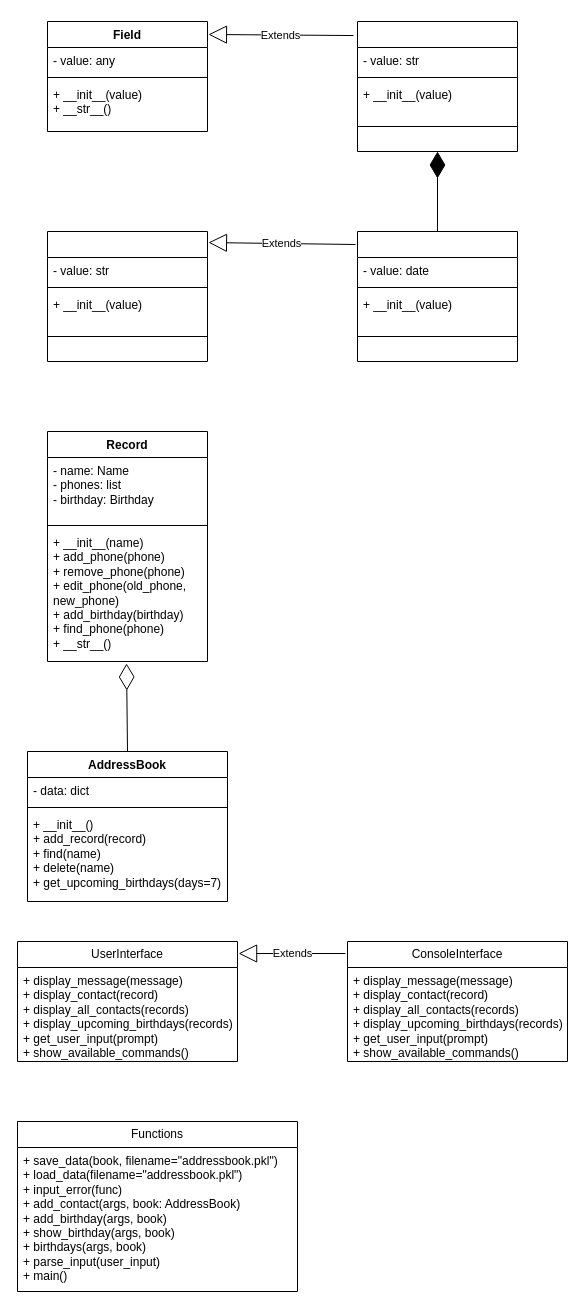
The diagram is 585 pixels wide and 1312 high, and some of its shapes have lost their labels. Each missing label, with the box of its shape:
Birthday: (356, 230, 518, 362)
Name: (356, 20, 518, 152)
Phone: (46, 230, 208, 362)
